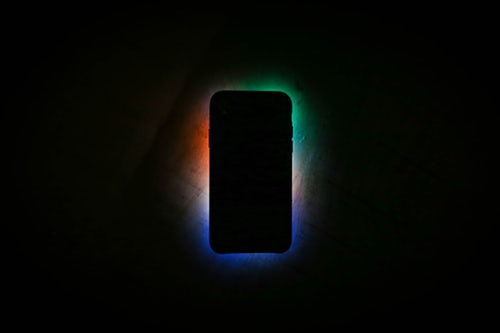phone: (206, 88, 295, 259)
